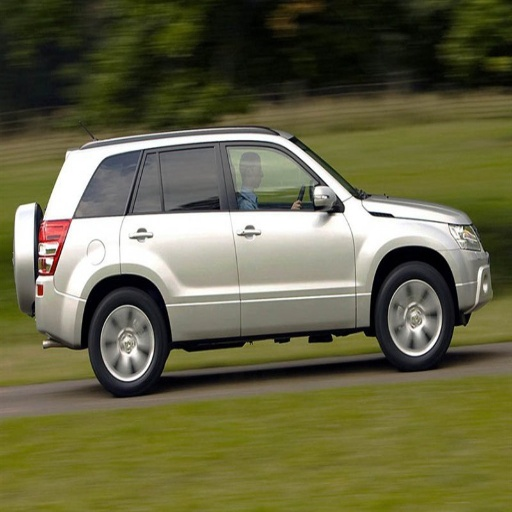back_right_door: (119, 139, 239, 337)
back_right_light: (38, 220, 70, 276)
front_right_door: (224, 140, 354, 331)
trunk: (42, 269, 92, 337)
